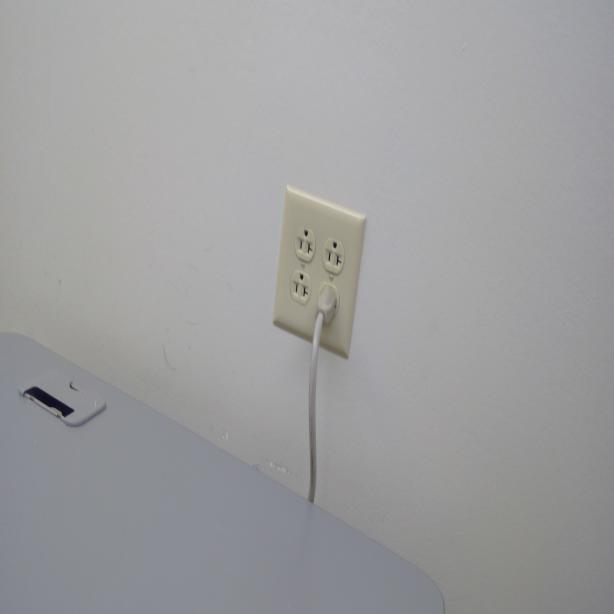typeb: (291, 270, 312, 308), (298, 224, 316, 259), (326, 235, 343, 271)
